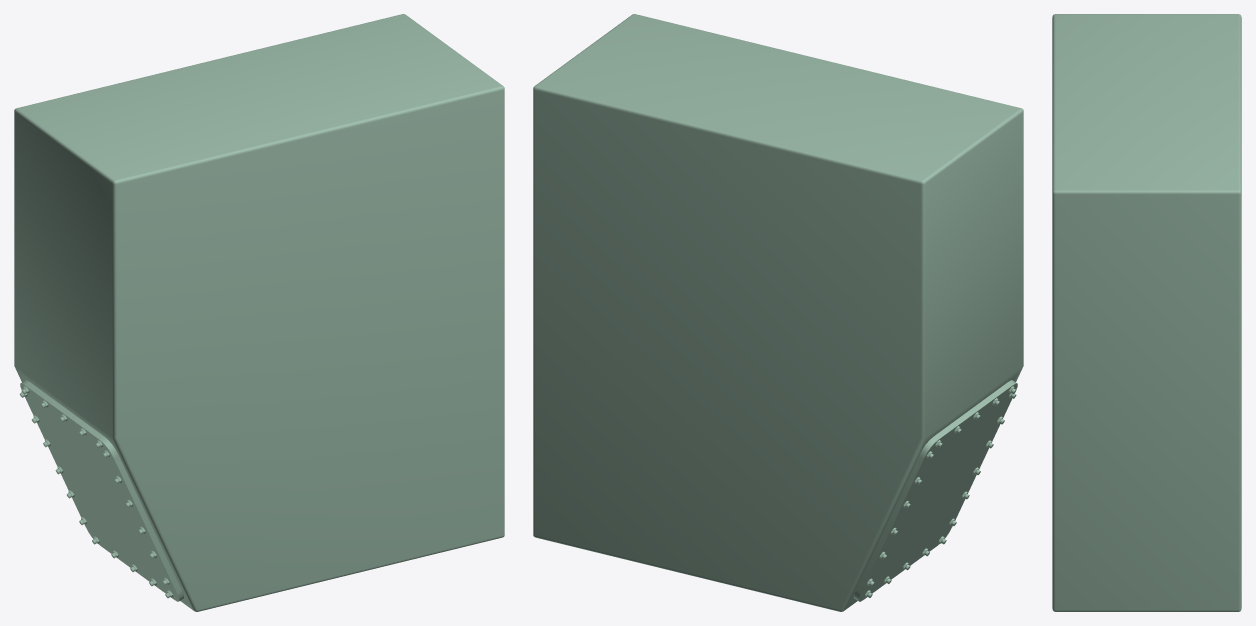
File: me_localControl.fbx
The picture shows the model from 3 angles, left to right: view 1: azimuth 30°, elevation 25°; view 2: azimuth 150°, elevation 25°; view 3: azimuth 270°, elevation 25°; orthographic projection. The views are drawn at different scales.
Visible parts, largest first — view 1: me_localControl; view 2: me_localControl; view 3: me_localControl.
Boxes of the visible parts, x1=… form: me_localControl: x1=14, y1=14, x2=504, y2=611; me_localControl: x1=533, y1=14, x2=1023, y2=611; me_localControl: x1=1052, y1=14, x2=1241, y2=611.
Bounding box in the file's own units: 193 × 210 × 85.35.
1 material, 1 textured.
